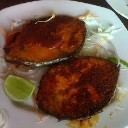seerfish: (37, 58, 123, 121), (5, 15, 89, 61)
